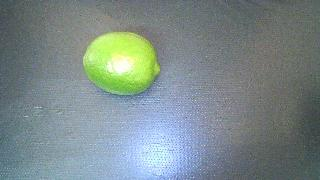EXPORTACION: (83, 32, 160, 95)
